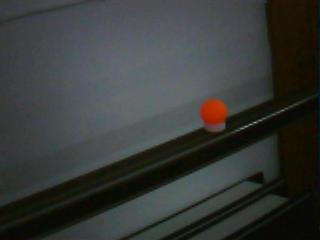oball: (199, 98, 228, 125)
